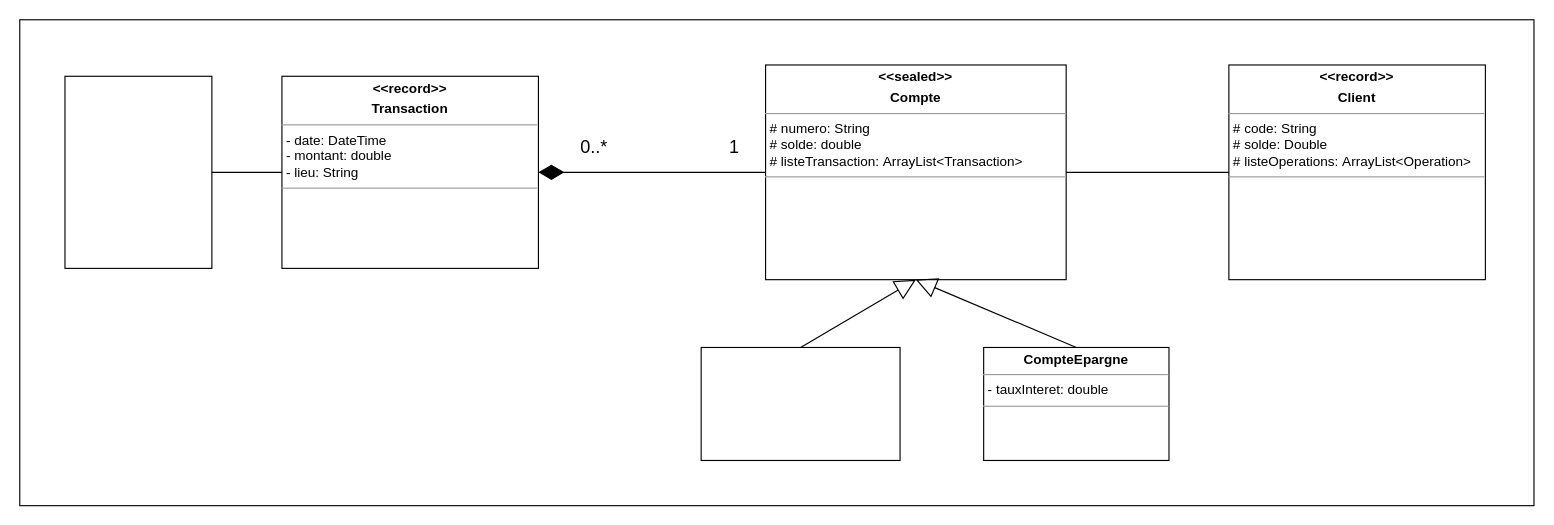
This 1554x525 diagram has some shape labels left out. The centre of each missing label's shape, as x and y in pixels:
"<<enum>> TypeTransaction VERSEMENT RETRAIT VIREMENT" goes at pixel 138 171.
"CompteCourant - decouvert: double" goes at pixel 800 403.
